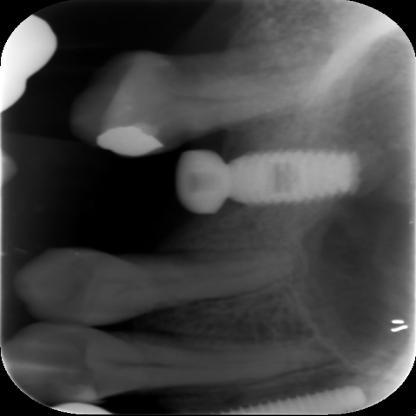Bicon: (227, 152, 360, 208)
